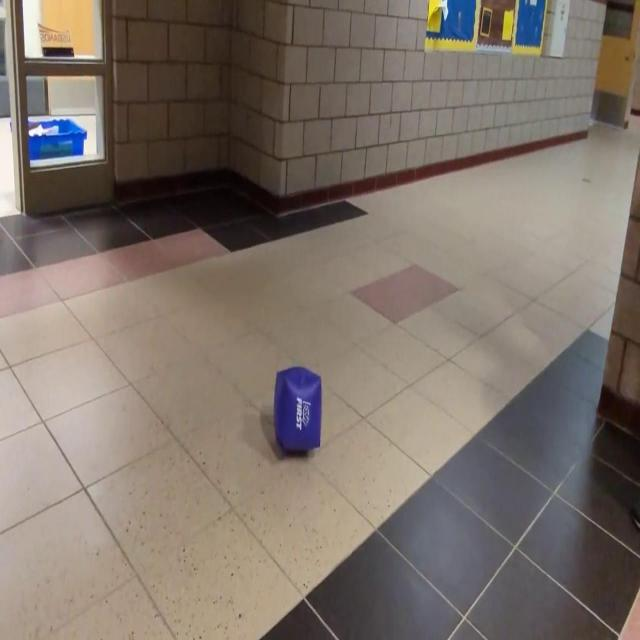frc_cube: (272, 364, 322, 454)
